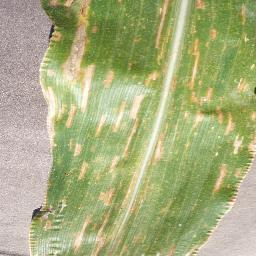Gray_Leaf_Spot: (25, 0, 97, 130), (156, 3, 229, 131), (213, 70, 256, 250), (93, 136, 143, 256), (15, 187, 69, 256), (141, 16, 167, 99), (66, 136, 97, 201), (93, 102, 145, 139), (69, 209, 101, 256), (189, 221, 225, 256), (146, 137, 177, 173), (231, 0, 254, 45), (129, 30, 149, 77), (89, 54, 114, 86), (45, 106, 60, 155), (180, 121, 197, 163), (160, 238, 189, 256), (161, 196, 180, 221), (103, 0, 132, 16)
